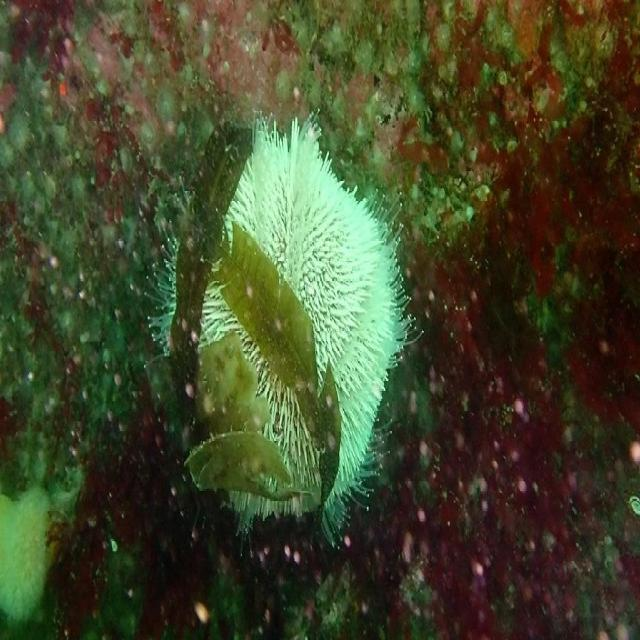Deniz Kestanesi: (143, 109, 424, 551)
